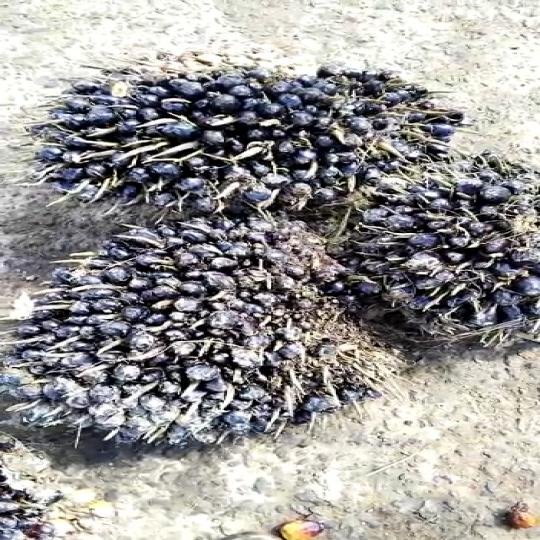mentah: (0, 221, 393, 457), (32, 60, 450, 205), (344, 153, 540, 352)
